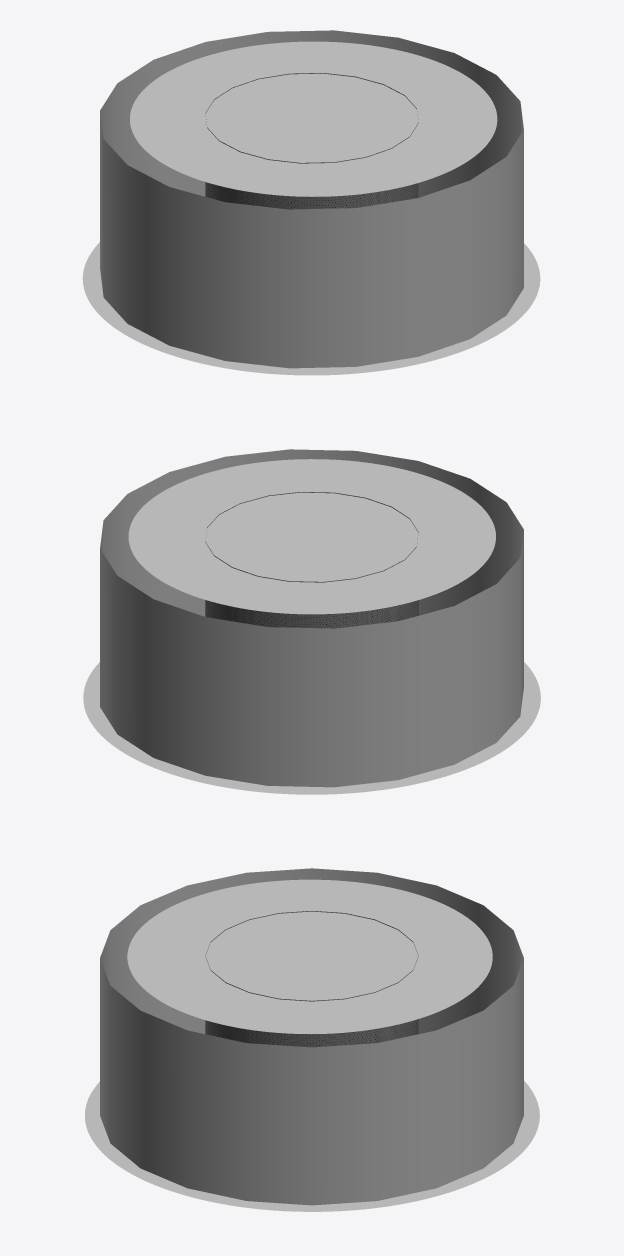
The model's file is tutorial_structure.fbx.
3 renders of one model, top to bottom at view 1: azimuth 30°, elevation 25°; view 2: azimuth 150°, elevation 25°; view 3: azimuth 270°, elevation 25°, orthographic.
Visible parts, largest first — view 1: outterwall1, cylinderUp, polySurface5, cylinderCentral; view 2: outterwall1, cylinderUp, polySurface5, cylinderCentral; view 3: outterwall1, cylinderUp, polySurface5, cylinderCentral.
Boxes of the visible parts, x1,y1,x2,y2 form: outterwall1: (100, 30, 523, 368); cylinderUp: (130, 41, 497, 196); polySurface5: (82, 242, 540, 375); cylinderCentral: (205, 73, 418, 209); outterwall1: (100, 449, 523, 787); cylinderUp: (128, 459, 495, 614); polySurface5: (83, 662, 540, 794); cylinderCentral: (205, 492, 418, 628); outterwall1: (100, 868, 523, 1205); cylinderUp: (127, 879, 492, 1034); polySurface5: (85, 1081, 539, 1211); cylinderCentral: (205, 911, 418, 1047).
Bounding box in the file's own units: 5033 × 1500 × 5033.
3 materials, 2 textured.
